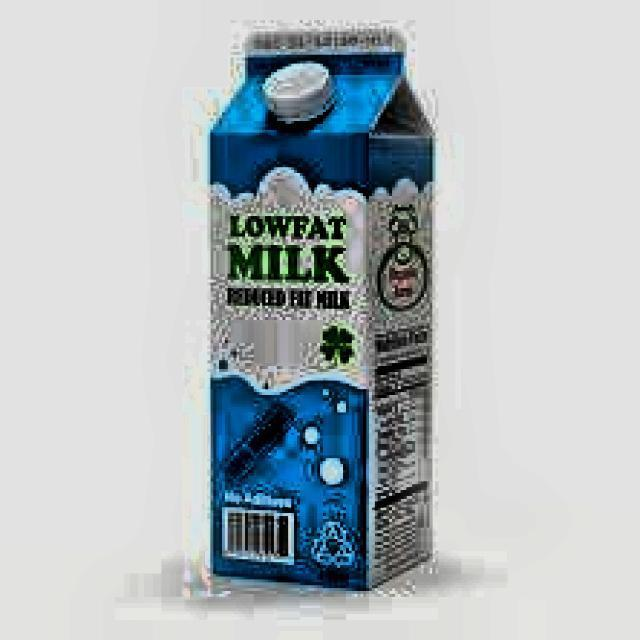cardboard: (204, 23, 436, 591)
